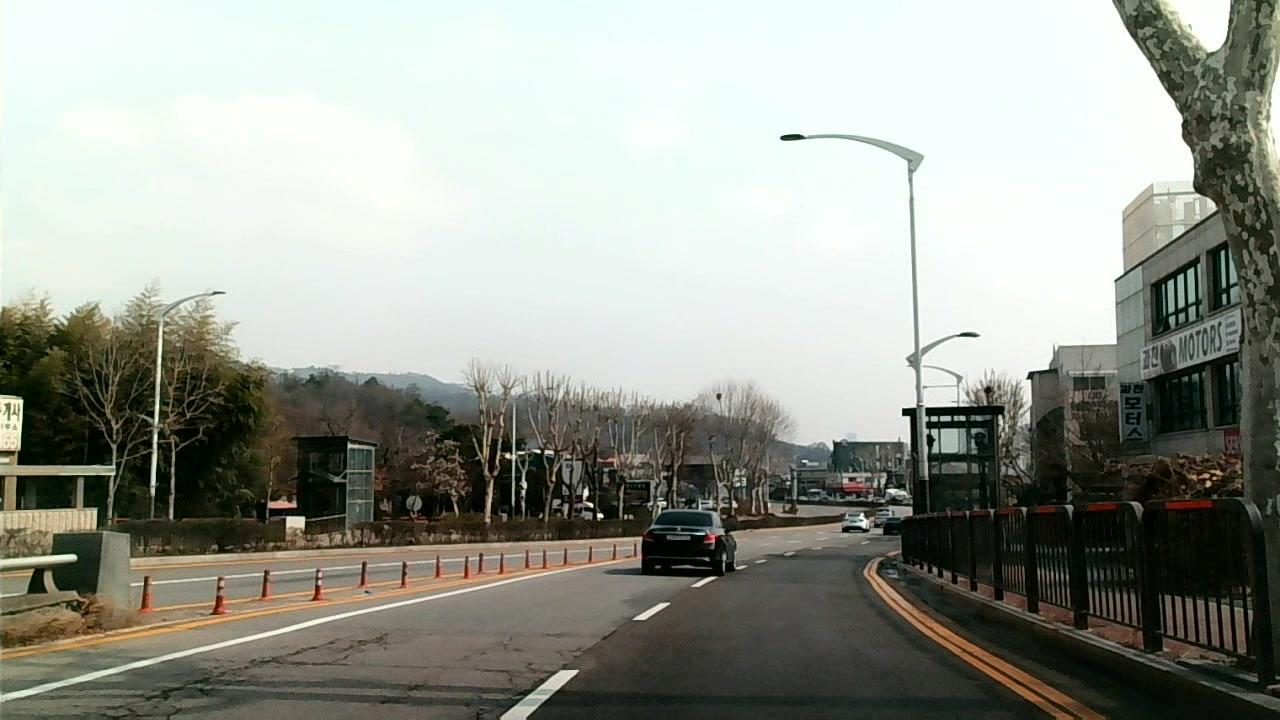hcrack: (270, 654, 530, 675)
vcrack: (136, 635, 336, 703), (486, 628, 618, 713)
